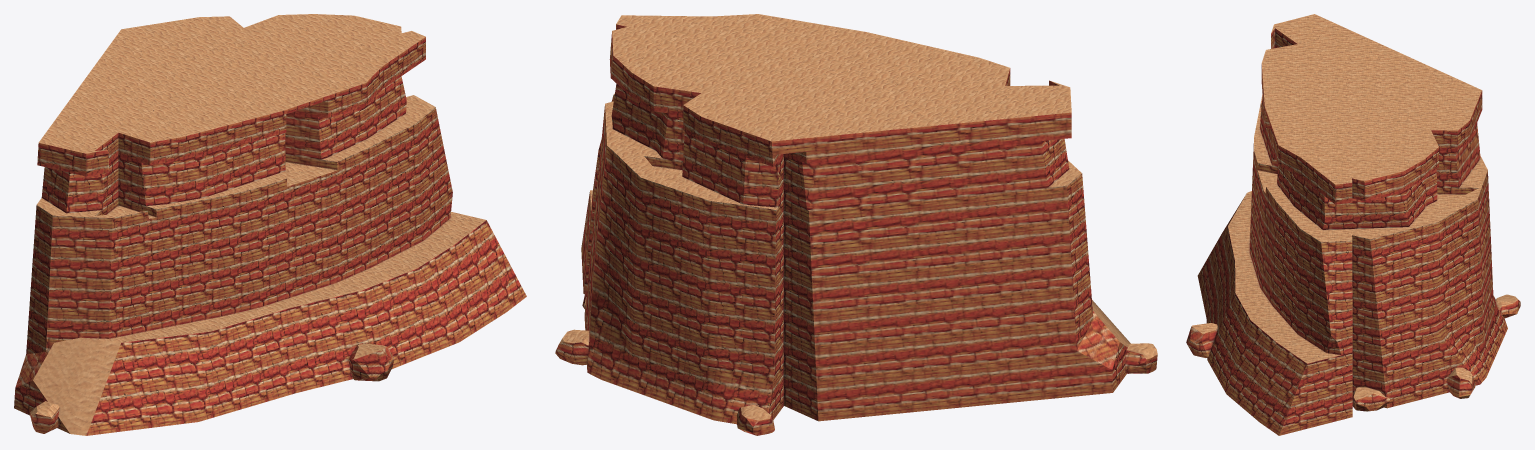
The model's file is v4_mesa_01.glb.
3 views of the same model, side by side, from view 1: azimuth 30°, elevation 25°; view 2: azimuth 150°, elevation 25°; view 3: azimuth 270°, elevation 25° (orthographic). The views are drawn at different scales.
Visible parts, largest first — view 1: v4_mesa_01; view 2: v4_mesa_01; view 3: v4_mesa_01.
Part boxes in pixels (box(x1,y1,x2,y2)): v4_mesa_01: box(14, 14, 526, 435); v4_mesa_01: box(555, 14, 1157, 435); v4_mesa_01: box(1186, 14, 1520, 435).
Bounding box in the file's own units: 35.87 × 17 × 23.24.
1 material, 1 textured.
